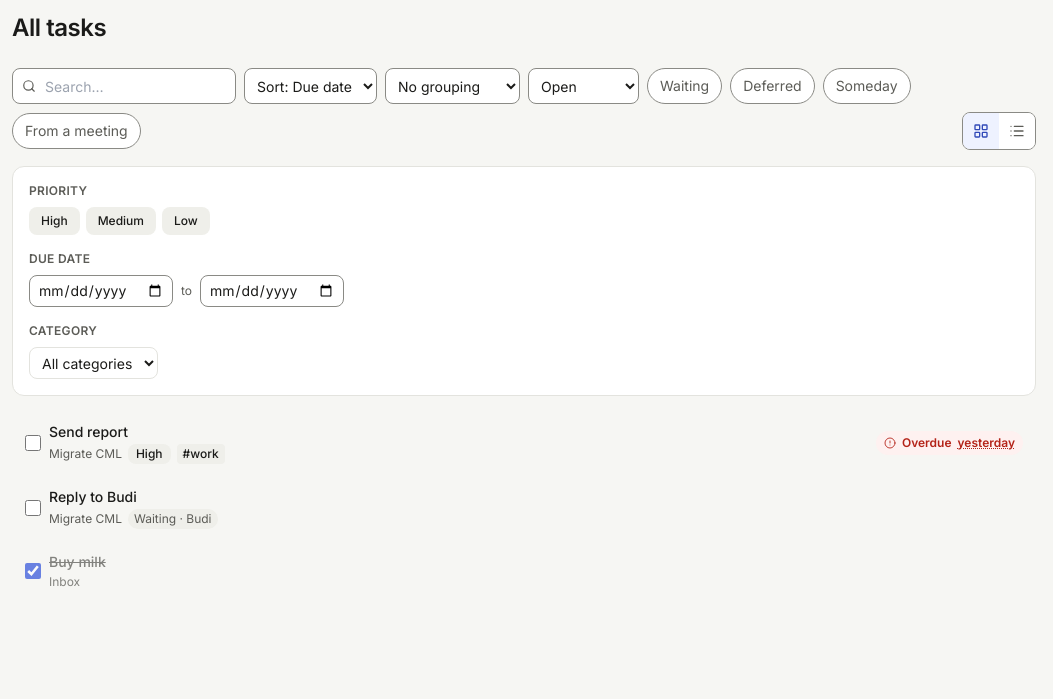
All tasks page: search, sort, group and view › status, sort and group go to the server and the URL
Expected: the button "Send report" is shown, 49,422 -> 868,442
Select "All" in the dropdown named "Status" at (584, 86), box 528,68 -> 639,104
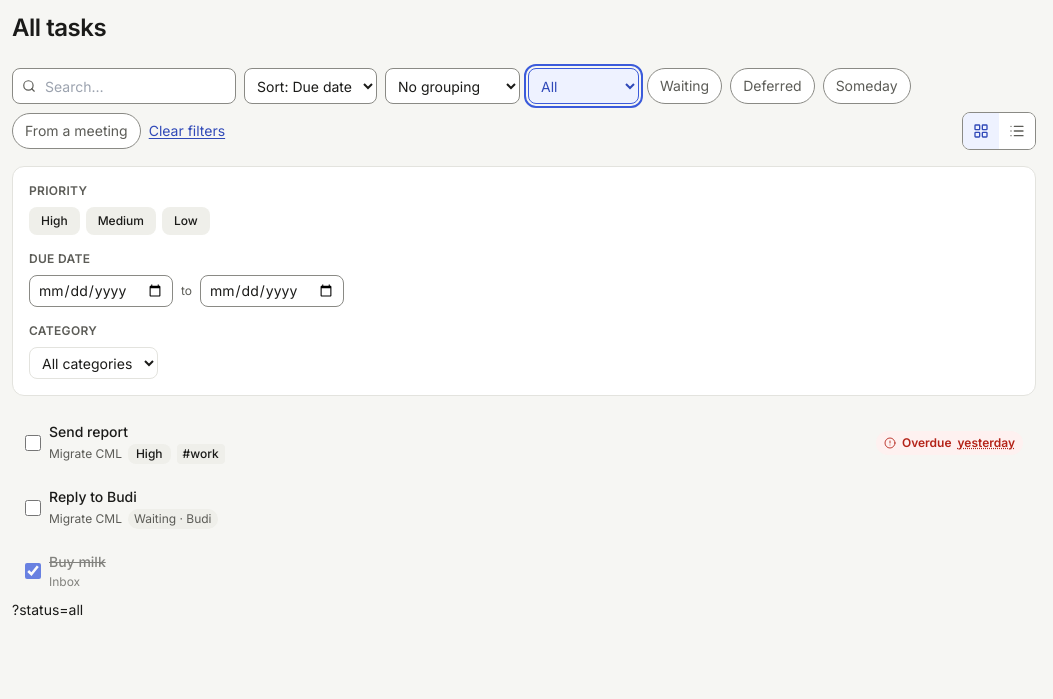
Select "Sort: Priority" in the dropdown named "Sort by" at (310, 86), box 244,68 -> 377,104
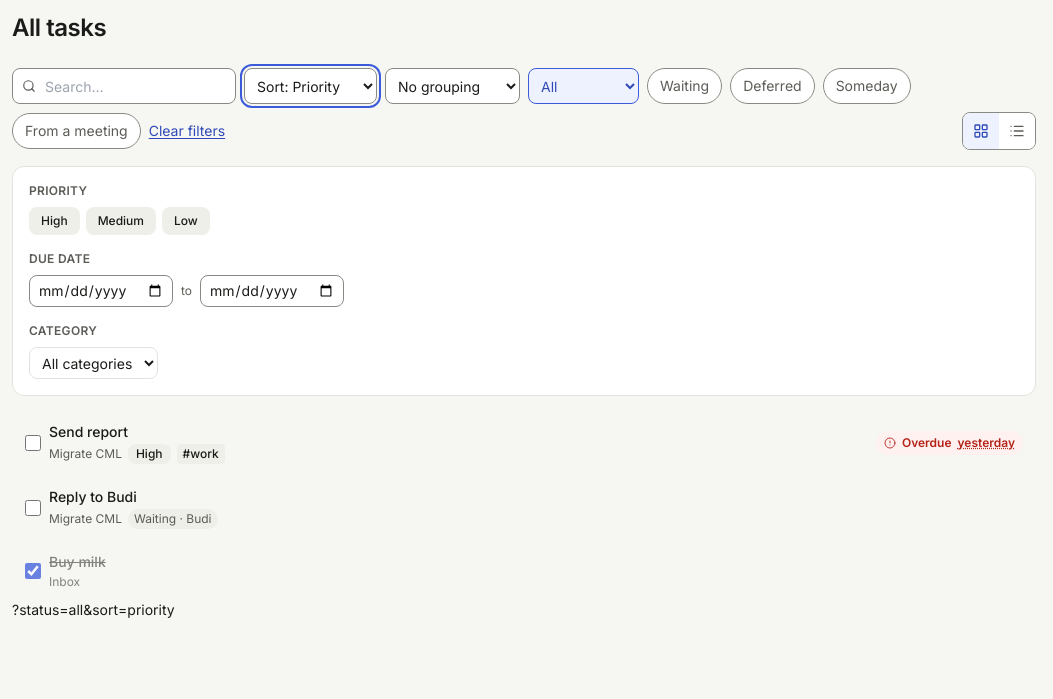
Select "Group: Project" in the dropdown named "Group by" at (452, 86), box 385,68 -> 520,104
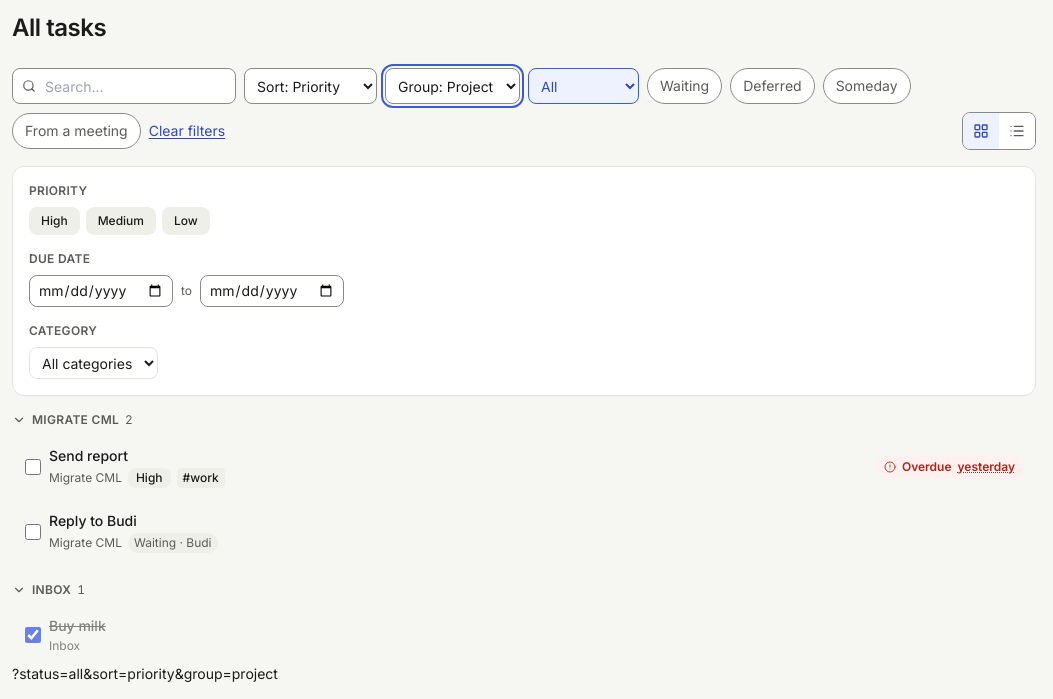
Expected: the text with test id "search" shows "status=all", 12,665 -> 278,682
Expected: the text with test id "search" shows "sort=priority", 12,665 -> 278,682
Expected: the text with test id "search" shows "group=project", 12,665 -> 278,682
